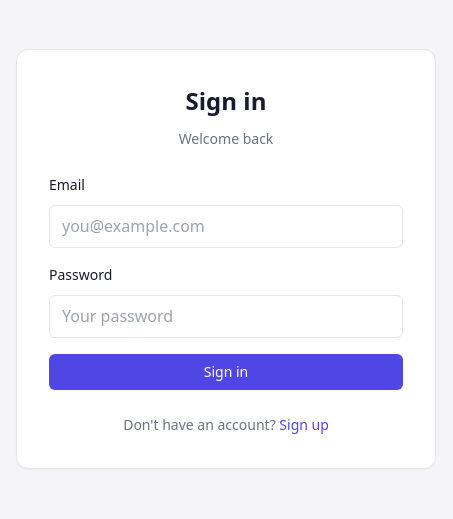
SignIn › shows error on invalid credentials
Type "wrong@b.com" into the field labelled "Email" at (226, 227), box [49, 205, 403, 248]
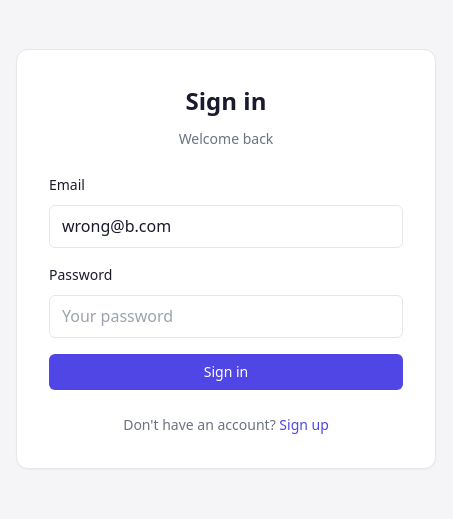
Type "wrong" into the password field labelled "Password" at (226, 317), box [49, 295, 403, 338]
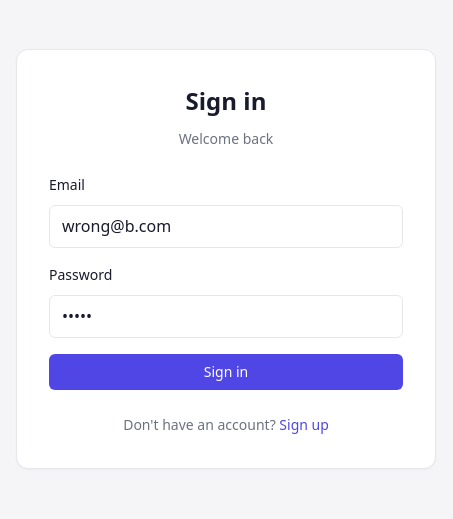
Click the button "Sign in" at (226, 372), box [49, 354, 403, 390]
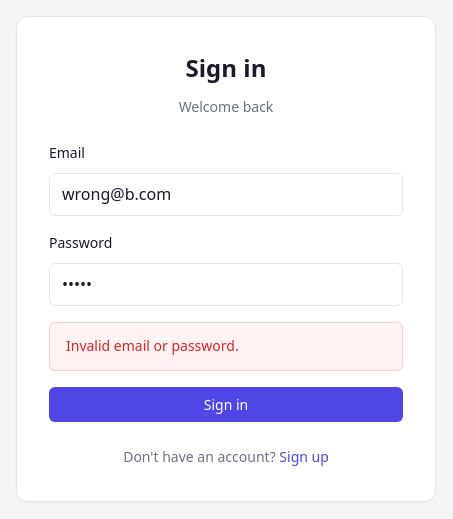
Now the message reads "Invalid email or password.", box [66, 336, 239, 355]
